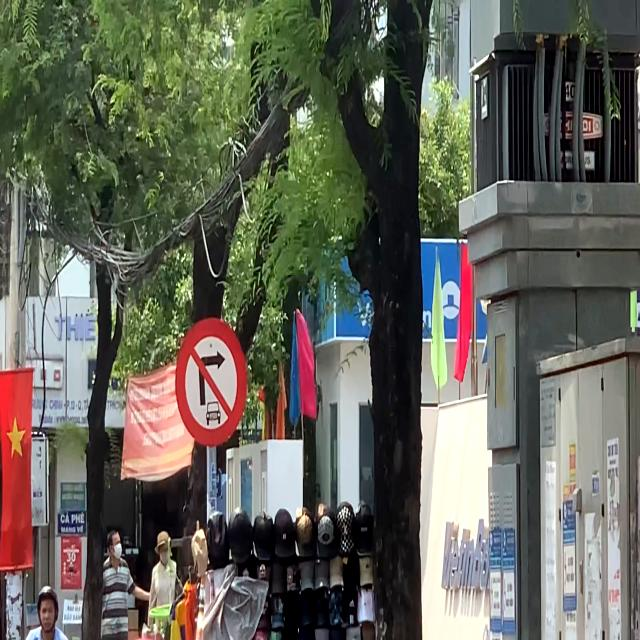P.103b: (175, 317, 248, 444)
